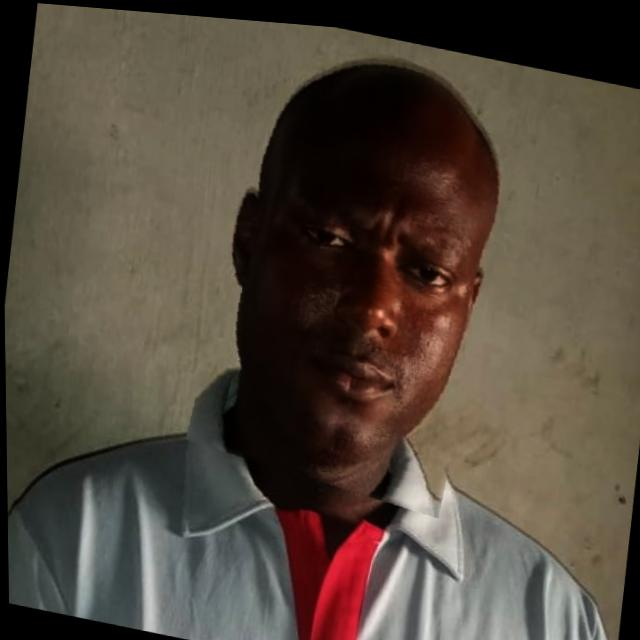sad: (187, 12, 526, 514)
